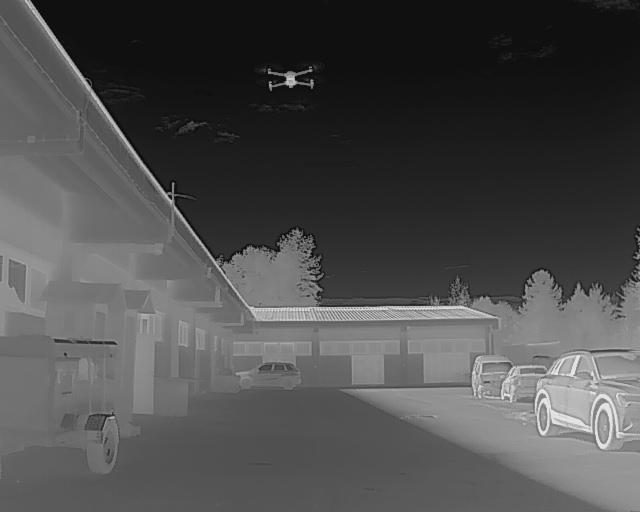drone: (255, 55, 326, 97)
